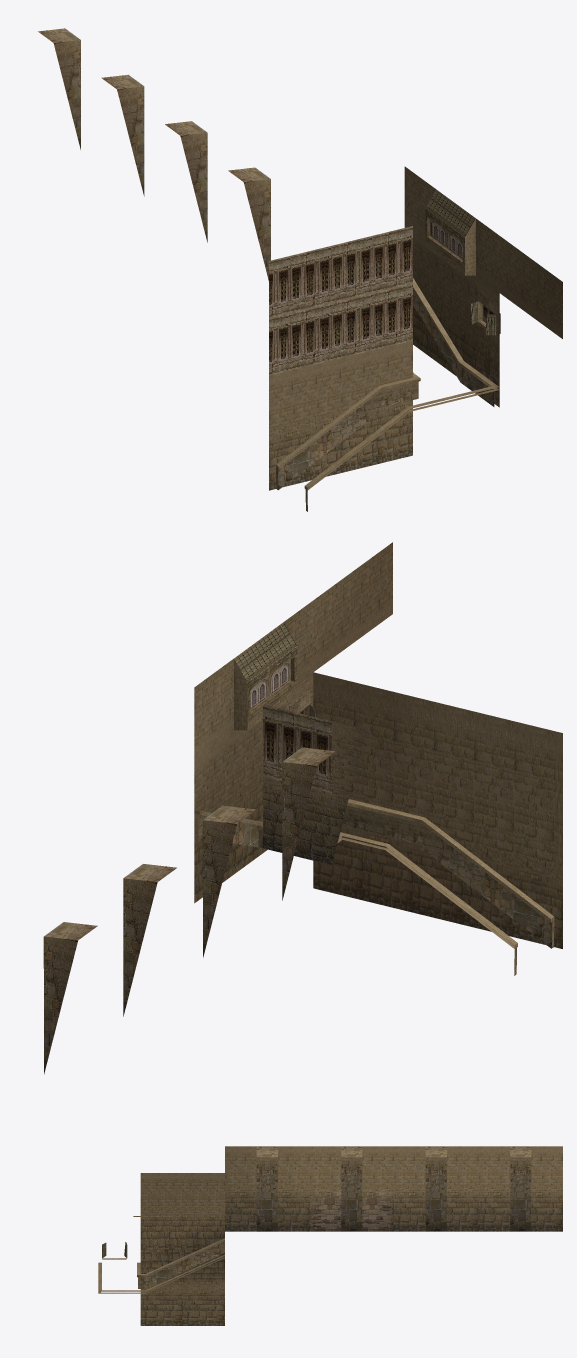
The model's file is M7Z2_WallSection1.glb.
The picture shows the model from 3 angles, top to bottom: view 1: azimuth 30°, elevation 25°; view 2: azimuth 150°, elevation 25°; view 3: azimuth 270°, elevation 25°; orthographic projection. The views are drawn at different scales.
Parts seen in each view (by area): view 1: M7Z2_WALLSECTION1; view 2: M7Z2_WALLSECTION1; view 3: M7Z2_WALLSECTION1.
Boxes of the visible parts, x1=… form: M7Z2_WALLSECTION1: x1=38, y1=28, x2=562, y2=511; M7Z2_WALLSECTION1: x1=43, y1=542, x2=562, y2=1074; M7Z2_WALLSECTION1: x1=98, y1=1146, x2=562, y2=1325.
Bounding box in the file's own units: 14.8 × 16 × 52.
9 materials, 9 textured.
